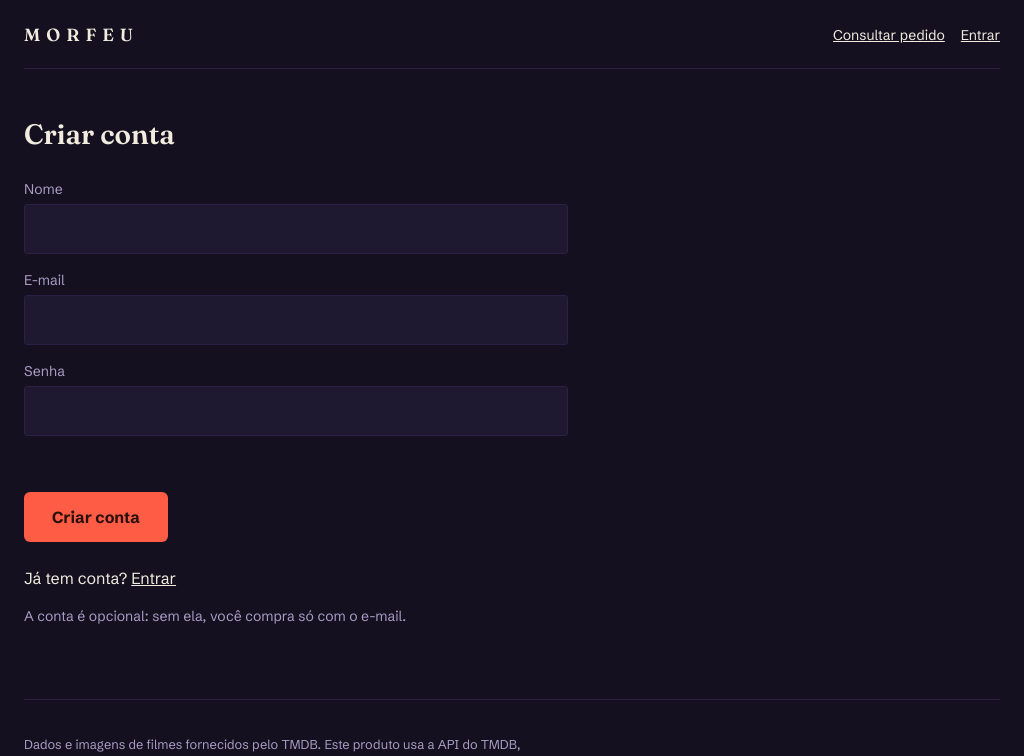
login e cadastro › cadastro bem-sucedido já entra na conta
Type "Ana" into the field labelled "Nome" at (296, 229), box [24,204,568,254]
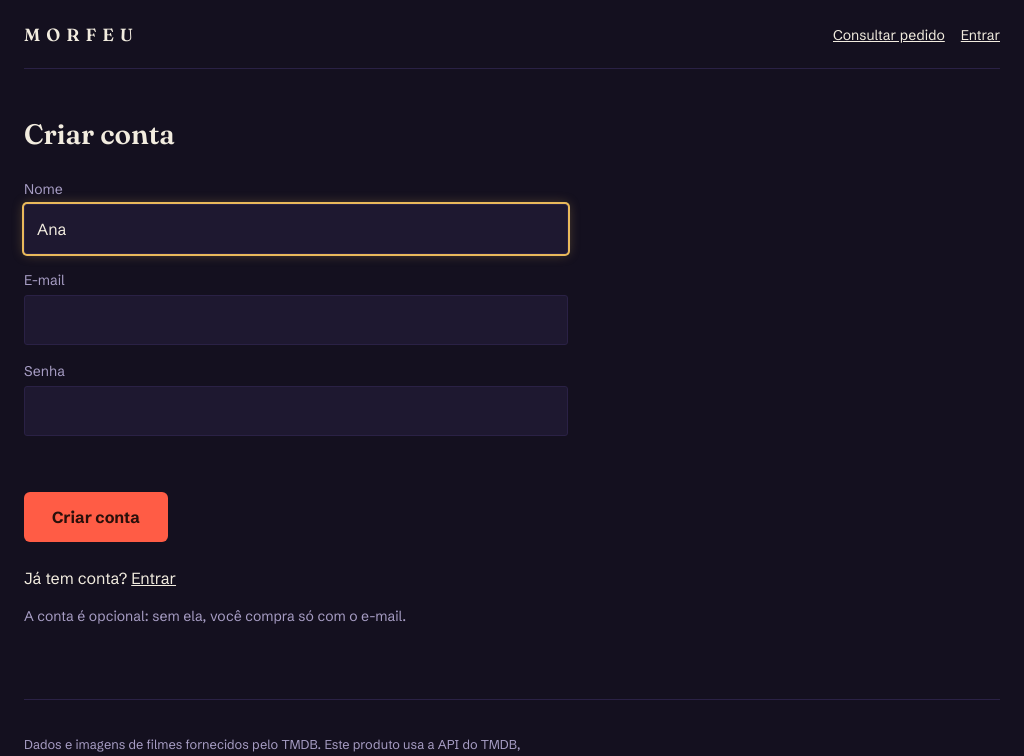
Type "ana@exemplo.com" into the field labelled "E-mail" at (296, 320), box [24,295,568,345]
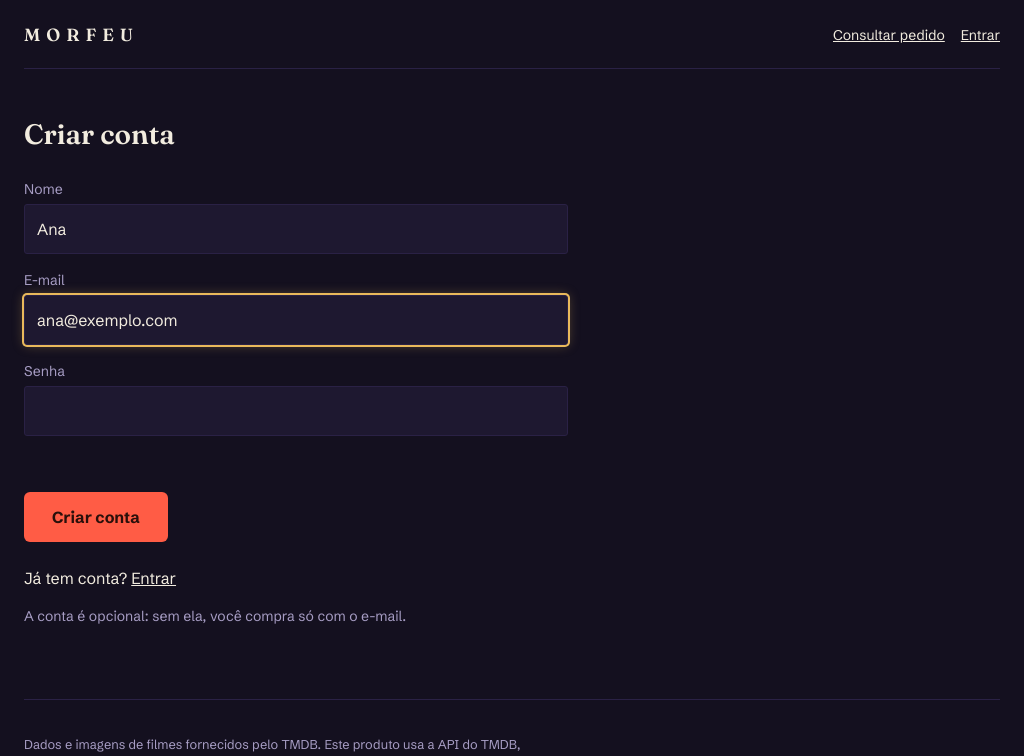
Type "segredo123" into the password field labelled "Senha" at (296, 411), box [24,386,568,436]
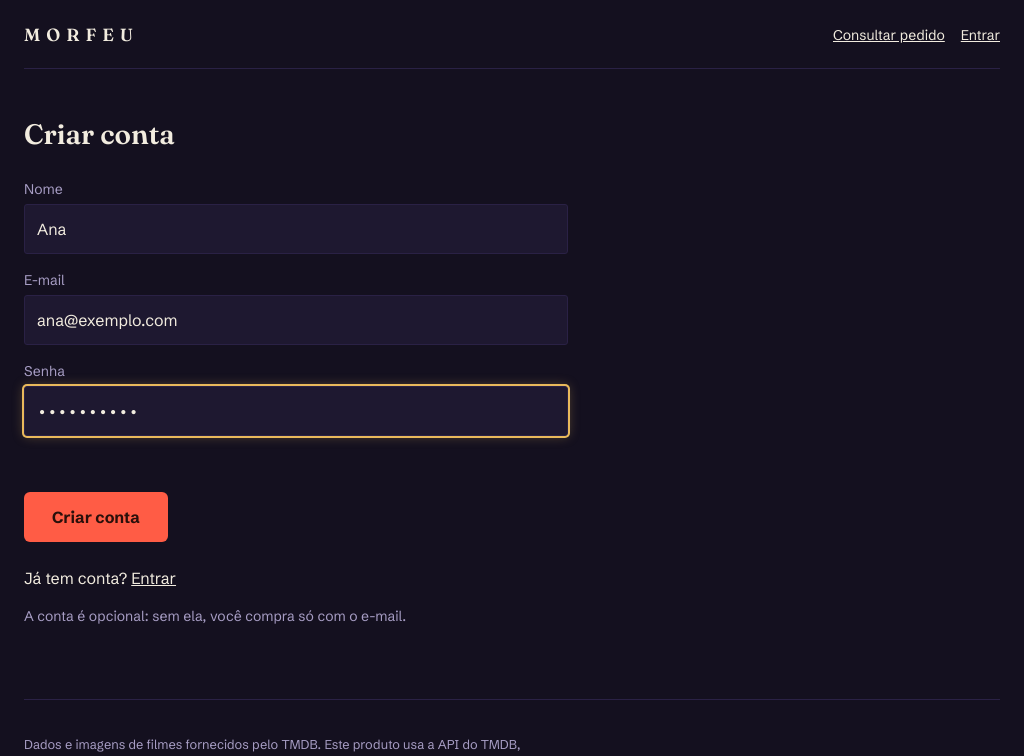
Click the button "Criar conta" at (96, 517), box [24,492,168,542]
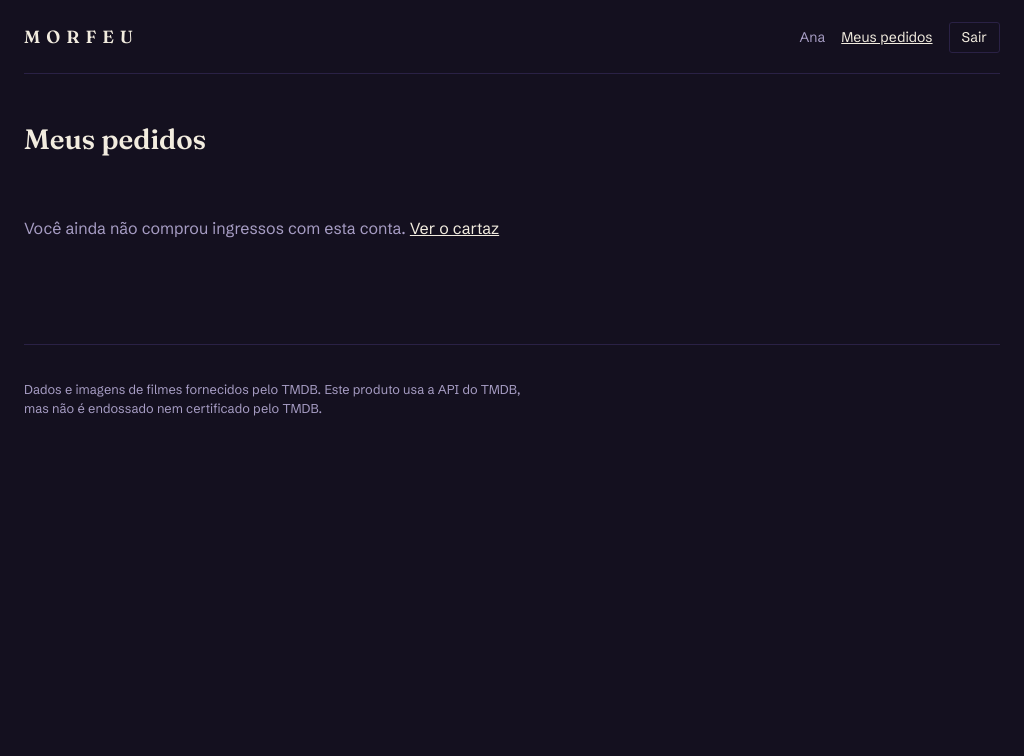
expect the heading "Meus pedidos" is shown: met, box [24,122,206,156]
